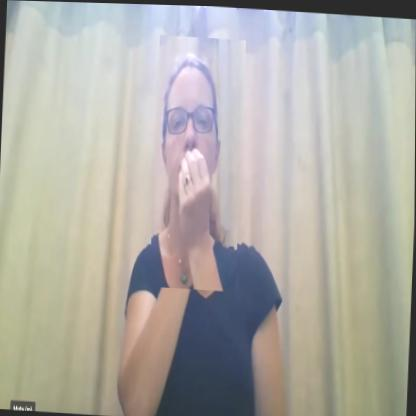Food: (150, 34, 246, 291)
